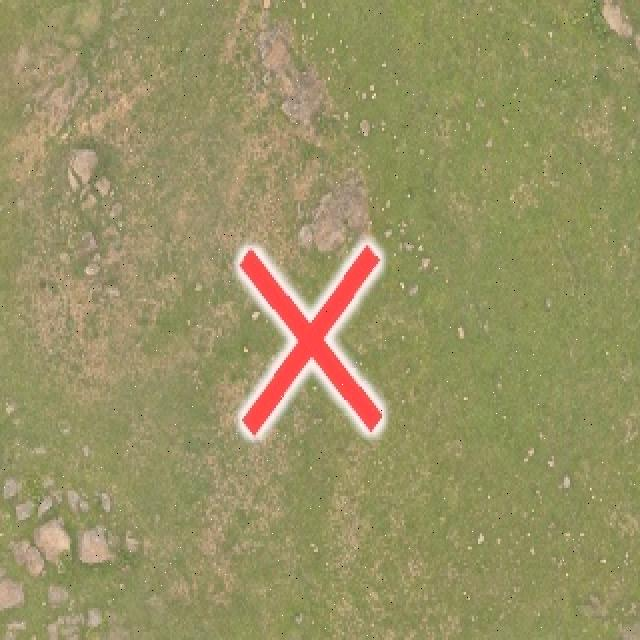x_marker: (239, 244, 381, 434)
